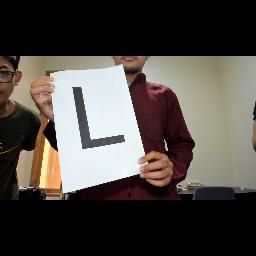l: (64, 78, 132, 154)
